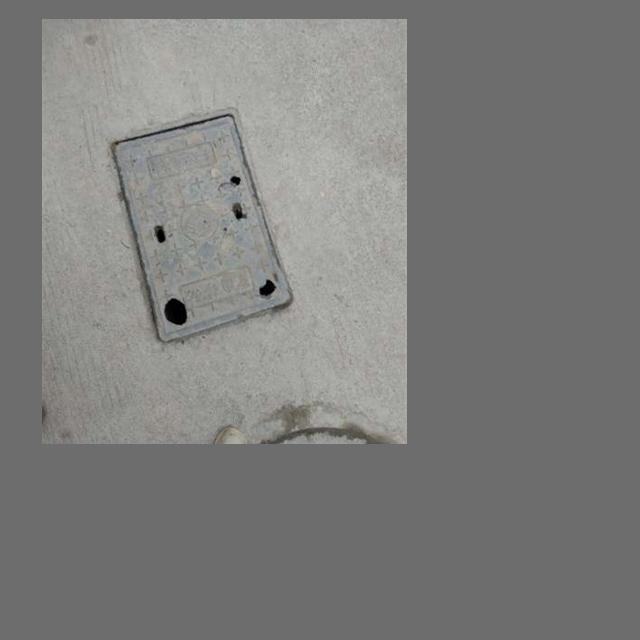broke: (103, 107, 296, 345)
